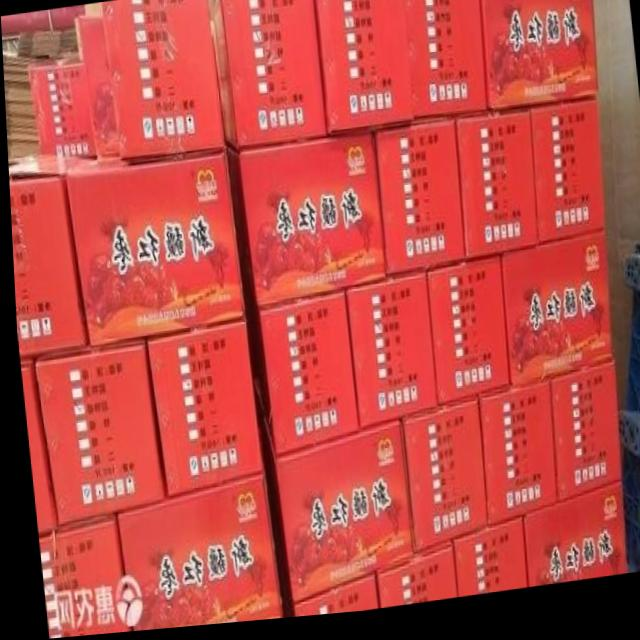box: (66, 152, 242, 351), (224, 134, 386, 312), (267, 427, 410, 611), (112, 481, 276, 633), (30, 343, 163, 527), (239, 277, 357, 462), (143, 326, 259, 505), (100, 0, 221, 163), (497, 241, 611, 399), (211, 0, 326, 153), (6, 155, 85, 363), (340, 276, 436, 434), (373, 122, 465, 285), (479, 0, 597, 120), (313, 0, 412, 140), (423, 262, 508, 418), (398, 409, 483, 565), (453, 113, 536, 268), (473, 387, 552, 535), (33, 518, 126, 639), (516, 490, 621, 596), (529, 106, 603, 251), (404, 0, 486, 127), (546, 371, 617, 513), (27, 66, 95, 161), (16, 360, 52, 534), (448, 522, 522, 605), (79, 17, 118, 164), (369, 550, 451, 615), (288, 579, 370, 622)
